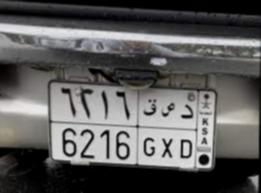License_Plate: (45, 77, 220, 176)
